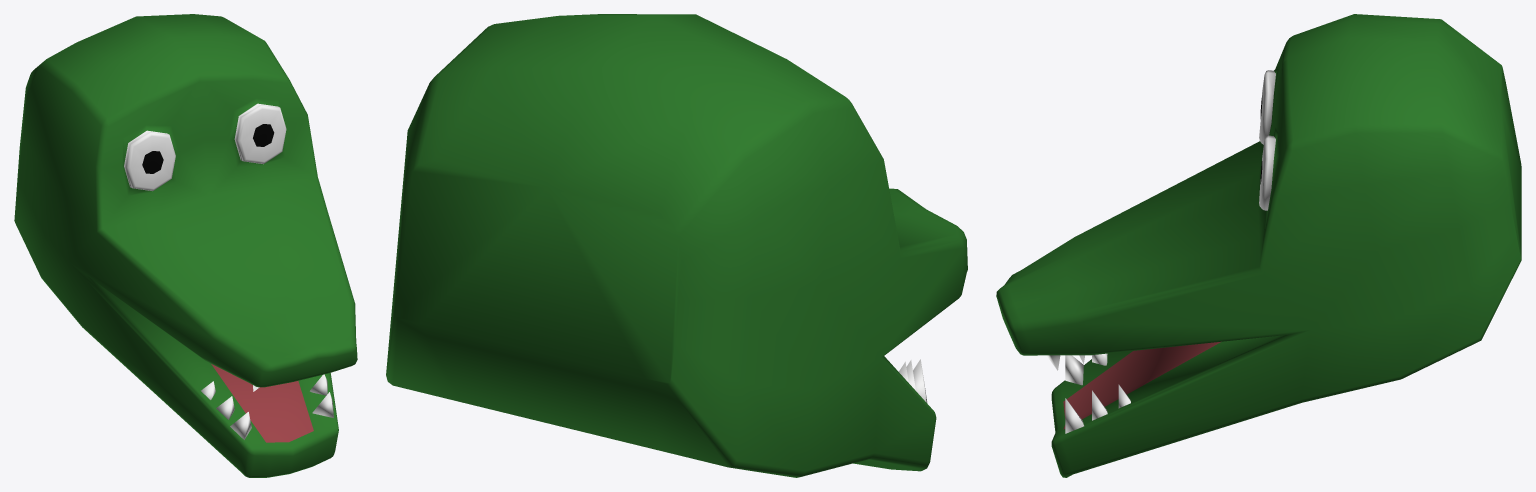
Rendered from AlligatorModel.glb.
3 views of the same model, side by side, from view 1: azimuth 30°, elevation 25°; view 2: azimuth 150°, elevation 25°; view 3: azimuth 270°, elevation 25° (orthographic). The views are drawn at different scales.
Parts seen in each view (by area): view 1: Jacare; view 2: Jacare; view 3: Jacare.
Part boxes in pixels (x1,y1,x2,y2): Jacare: (14,14,357,477); Jacare: (386,14,967,477); Jacare: (996,14,1521,477).
Size of the model in its own units: 0.7324 by 1.03 by 1.16.
